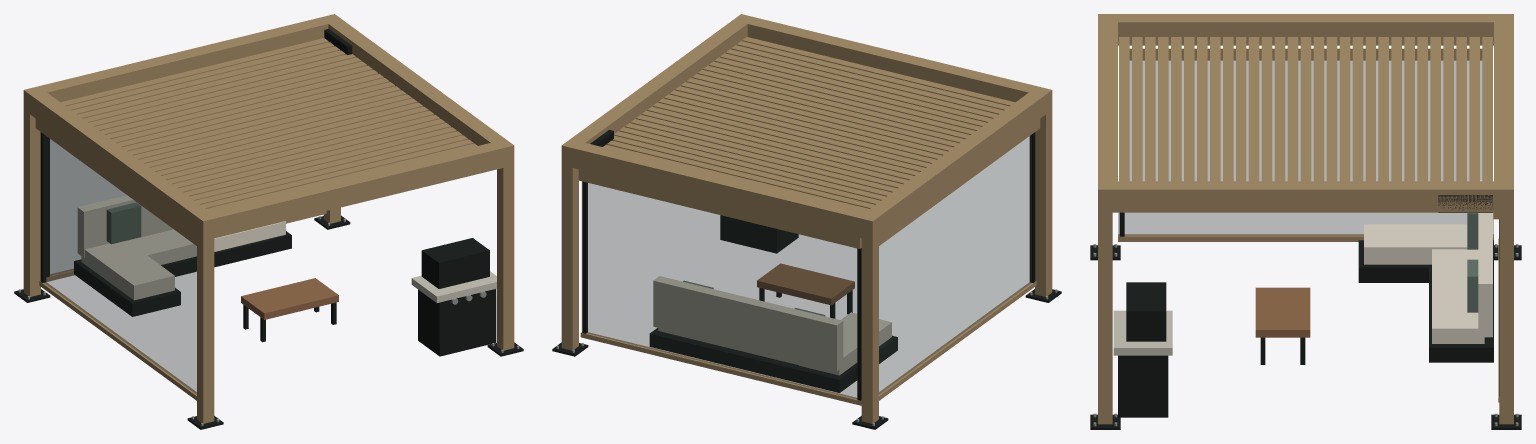
File: coordinatez-axis-13x13-sand.glb
The picture shows the model from 3 angles, left to right: view 1: azimuth 30°, elevation 25°; view 2: azimuth 150°, elevation 25°; view 3: azimuth 270°, elevation 25°; orthographic projection. The views are drawn at different scales.
Parts seen in each view (by area): view 1: Left motorized wall, Structural post (×3), Front motor beam, Rear drainage beam, Left beam, Right beam, Rear motorized wall, BBQ cabinet, Chaise cushion, BBQ hood, Sofa seat, Coffee table top (+36 smaller); view 2: Rear motorized wall, Left motorized wall, Sofa back, Structural post (×3), Rear drainage beam, Front motor beam, Left beam, Right beam, Sofa base, Rear wall cassette, Coffee table top, Rear wall bottom rail (+35 smaller); view 3: Left motorized wall, Right beam, Left beam, Structural post (×2), Front motor beam, Rear drainage beam, Sofa seat, Chaise cushion, BBQ cabinet, Coffee table top, BBQ hood, Left wall bottom rail (+37 smaller).
Part boxes in pixels (x1,y1,x2,y2): Left motorized wall: [44, 135, 196, 394]; Structural post (×3): [23, 110, 514, 423]; Front motor beam: [195, 139, 514, 240]; Rear drainage beam: [24, 14, 342, 102]; Left beam: [23, 90, 217, 240]; Right beam: [321, 14, 514, 168]; Rear motorized wall: [50, 139, 125, 274]; BBQ cabinet: [418, 289, 496, 356]; Chaise cushion: [81, 240, 174, 300]; BBQ hood: [421, 238, 489, 288]; Sofa seat: [128, 221, 285, 264]; Coffee table top: [241, 278, 338, 319]; Rear motorized wall: [587, 183, 856, 398]; Left motorized wall: [879, 135, 1031, 394]; Sofa back: [653, 276, 843, 371]; Structural post (×3): [561, 110, 1052, 423]; Rear drainage beam: [561, 139, 881, 240]; Front motor beam: [733, 14, 1051, 115]; Left beam: [858, 90, 1052, 240]; Right beam: [561, 14, 755, 168]; Sofa base: [649, 328, 857, 392]; Rear wall cassette: [578, 169, 861, 248]; Coffee table top: [757, 263, 854, 305]; Rear wall bottom rail: [580, 332, 861, 405]; Left motorized wall: [1118, 61, 1493, 235]; Right beam: [1098, 181, 1513, 212]; Left beam: [1098, 14, 1513, 45]; Structural post (×2): [1098, 212, 1513, 424]; Front motor beam: [1098, 14, 1117, 212]; Rear drainage beam: [1494, 14, 1513, 212]; Sofa seat: [1432, 249, 1484, 343]; Chaise cushion: [1364, 224, 1467, 264]; BBQ cabinet: [1118, 355, 1168, 417]; Coffee table top: [1255, 287, 1310, 337]; BBQ hood: [1126, 282, 1166, 341]; Left wall bottom rail: [1118, 234, 1493, 241].
Size of the model in its own units: 4.11 by 2.49 by 4.11.
